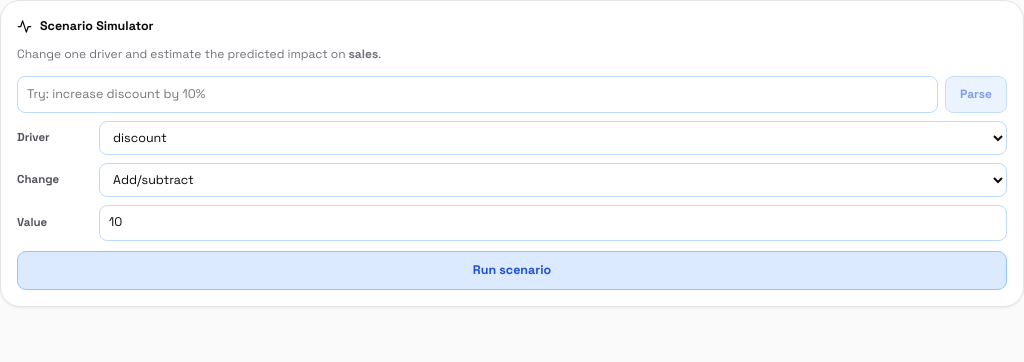
Test case: ScenarioSimulatorCard Component › parses natural language prompt and prefills driver changes
The width and height of the screenshot is (1024, 362).
In the field with placeholder "Try: increase discount by 10%": [478, 94] box [17, 76, 938, 113], type "increase discount by 10%"
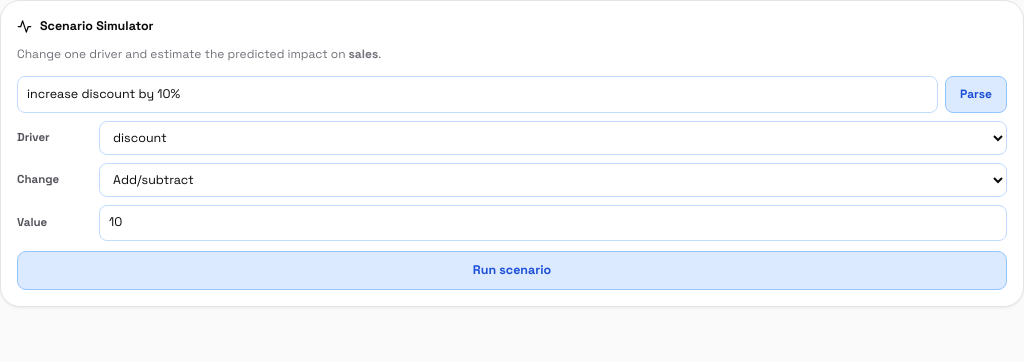
Click the button "Parse": [976, 94] box [945, 76, 1007, 113]
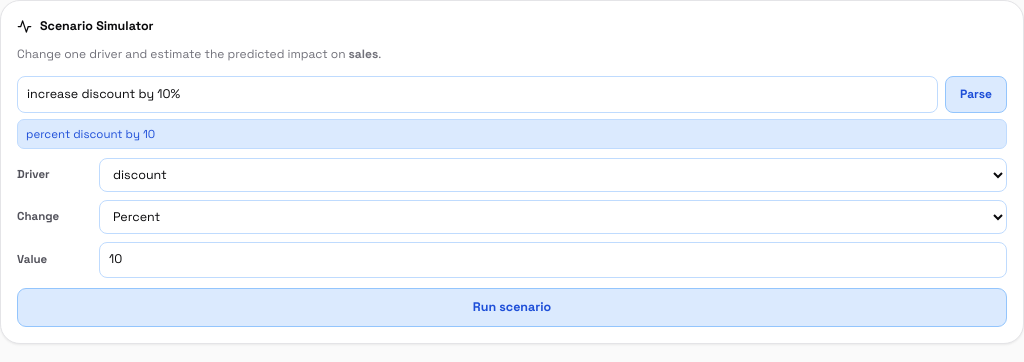
Result: the text "percent discount by 10" is shown at [17, 119, 1007, 149]
